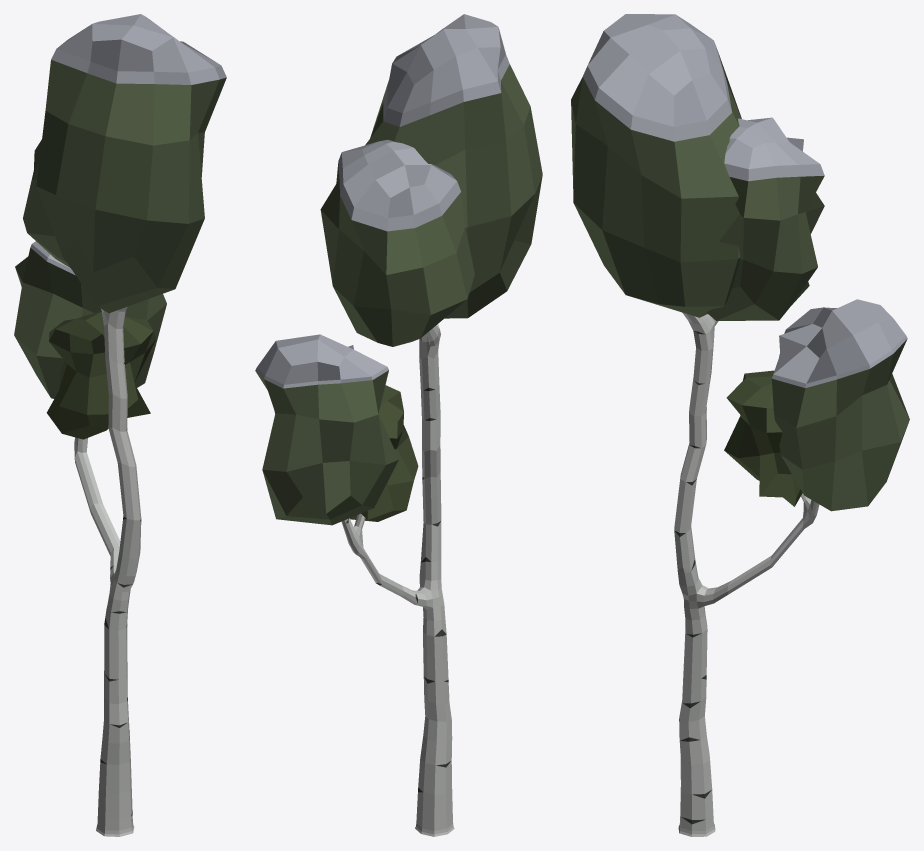
Rendered from BirchTree_Snow_5.glb.
3 views of the same model, side by side, from view 1: azimuth 30°, elevation 25°; view 2: azimuth 150°, elevation 25°; view 3: azimuth 270°, elevation 25° (orthographic). The views are drawn at different scales.
Parts seen in each view (by area): view 1: BirchTree_Snow_5_Cube.118; view 2: BirchTree_Snow_5_Cube.118; view 3: BirchTree_Snow_5_Cube.118.
Boxes of the visible parts, <box> form: BirchTree_Snow_5_Cube.118: <box>14,14,226,836</box>; BirchTree_Snow_5_Cube.118: <box>255,14,542,836</box>; BirchTree_Snow_5_Cube.118: <box>571,14,909,836</box>.
Bounding box in the file's own units: 1.19 × 5.06 × 1.93.
Materials: 1 (1 with a texture image).
